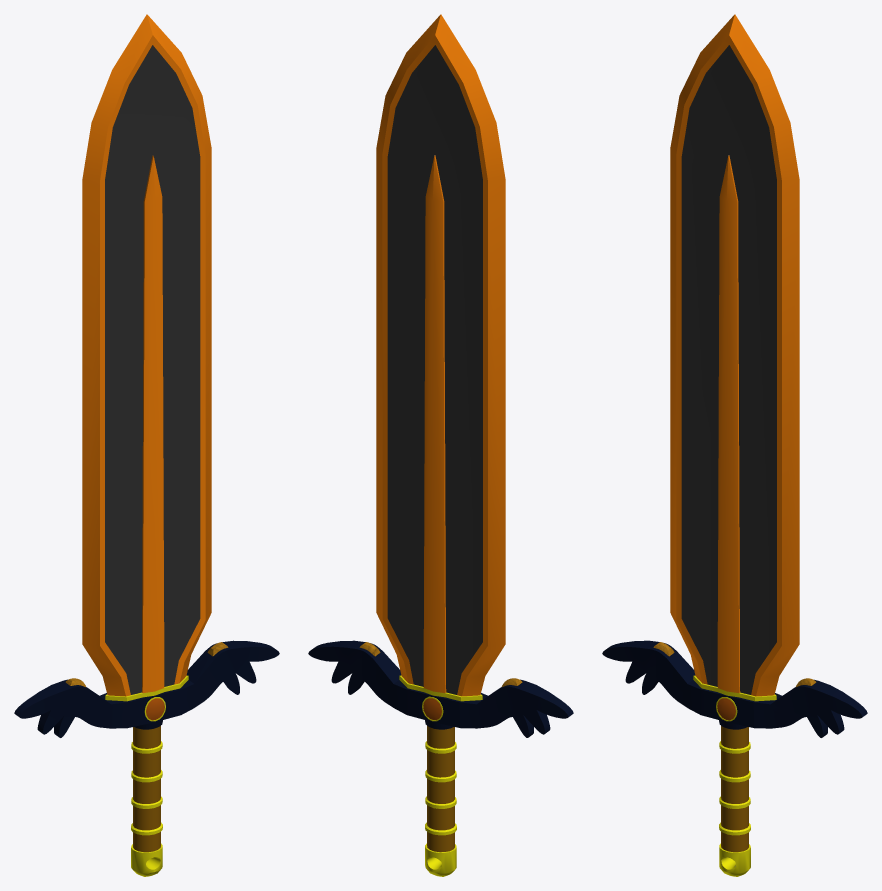
The model's file is earth_essence_sword.glb.
The picture shows the model from 3 angles, left to right: view 1: azimuth 30°, elevation 25°; view 2: azimuth 150°, elevation 25°; view 3: azimuth 330°, elevation 25°; orthographic projection.
Parts seen in each view (by area): view 1: Earth eclipse; view 2: Earth eclipse; view 3: Earth eclipse.
Part boxes in pixels (left/top/right/bottom): Earth eclipse: left=14, top=14, right=279, bottom=876; Earth eclipse: left=308, top=14, right=573, bottom=876; Earth eclipse: left=602, top=14, right=867, bottom=876.
Size of the model in its own units: 1.61 by 5.08 by 0.1902.
1 material, 1 textured.
